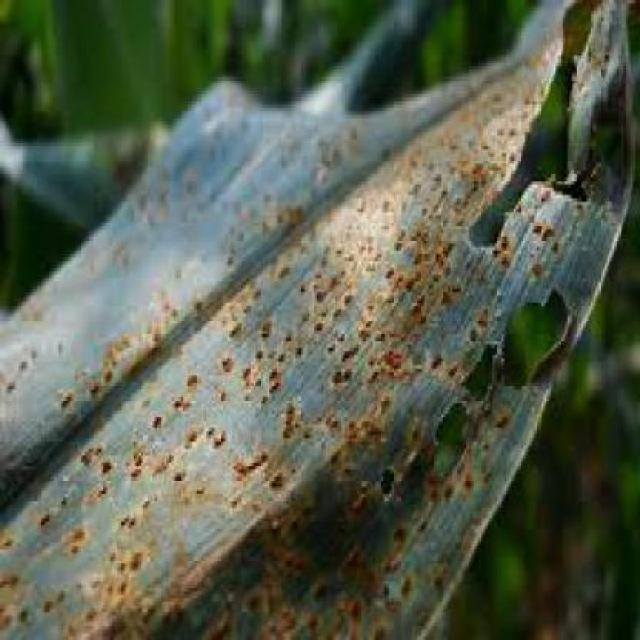Corn_Rust: (5, 3, 632, 640)
